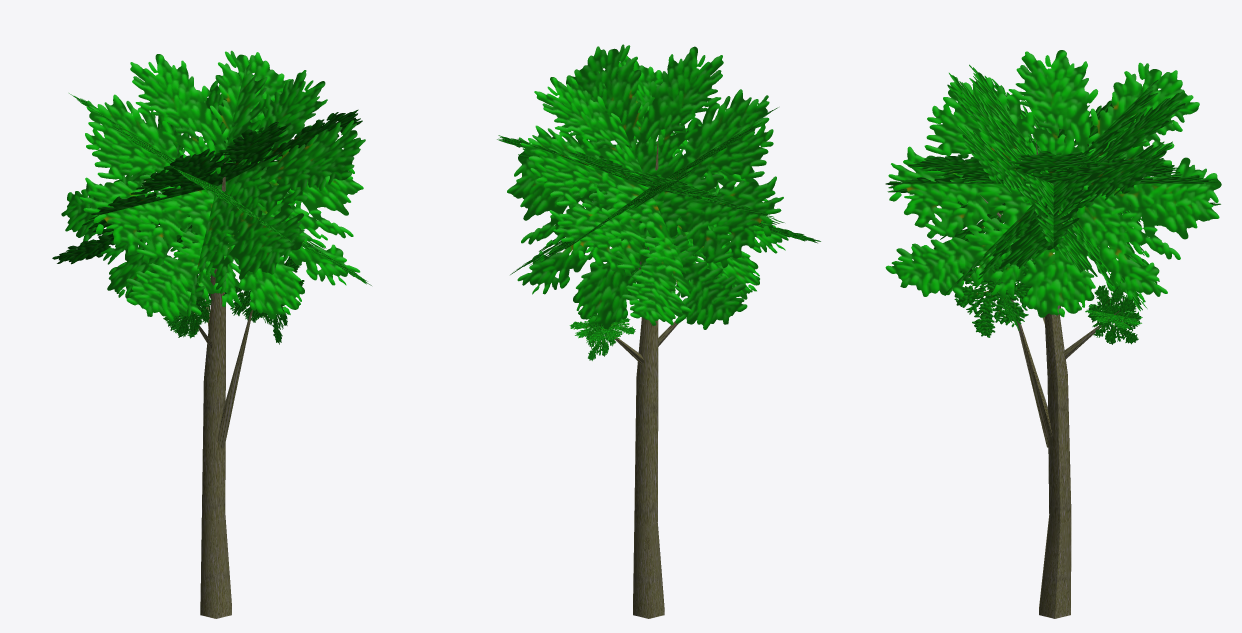
The model's file is tree03.obj.
The picture shows the model from 3 angles, left to right: view 1: azimuth 30°, elevation 25°; view 2: azimuth 150°, elevation 25°; view 3: azimuth 270°, elevation 25°; orthographic projection.
Parts seen in each view (by area): view 1: Duplicate06, Duplicate07, Cylinder04, Box01, Duplicate08, Duplicate12, Duplicate02, Duplicate13; view 2: Box01, Duplicate07, Cylinder04, Duplicate06, Duplicate08, Duplicate11, Duplicate10; view 3: Duplicate08, Duplicate06, Box01, Cylinder04, Duplicate07, Duplicate12, Duplicate10, Duplicate02, Duplicate11.
Boxes of the visible parts, bbox=[...] form: Duplicate06: bbox=[80, 50, 363, 321]; Duplicate07: bbox=[61, 64, 365, 316]; Cylinder04: bbox=[200, 155, 231, 618]; Box01: bbox=[52, 109, 362, 264]; Duplicate08: bbox=[69, 93, 371, 285]; Duplicate12: bbox=[223, 255, 304, 344]; Duplicate02: bbox=[217, 310, 252, 448]; Duplicate13: bbox=[163, 283, 211, 338]; Box01: bbox=[507, 44, 783, 329]; Duplicate07: bbox=[518, 55, 788, 325]; Cylinder04: bbox=[633, 137, 664, 618]; Duplicate06: bbox=[497, 135, 820, 243]; Duplicate08: bbox=[510, 107, 778, 274]; Duplicate11: bbox=[569, 314, 635, 341]; Duplicate10: bbox=[586, 313, 616, 360]; Duplicate08: bbox=[885, 50, 1221, 317]; Duplicate06: bbox=[933, 79, 1185, 295]; Box01: bbox=[947, 64, 1159, 311]; Cylinder04: bbox=[1036, 140, 1071, 618]; Duplicate07: bbox=[885, 151, 1220, 207]; Duplicate12: bbox=[954, 242, 1036, 337]; Duplicate10: bbox=[1088, 285, 1140, 344]; Duplicate02: bbox=[1011, 299, 1052, 447]; Duplicate11: bbox=[1085, 300, 1142, 328].
Bounding box in the file's own units: 70.44 × 130 × 77.53.
